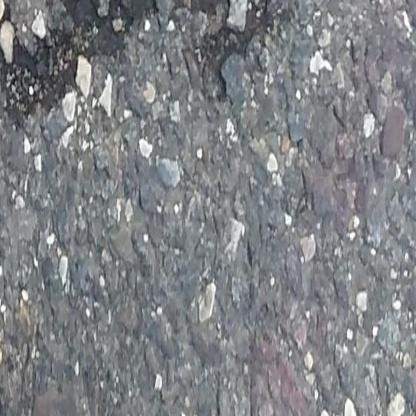Cracks: (0, 0, 307, 113)
